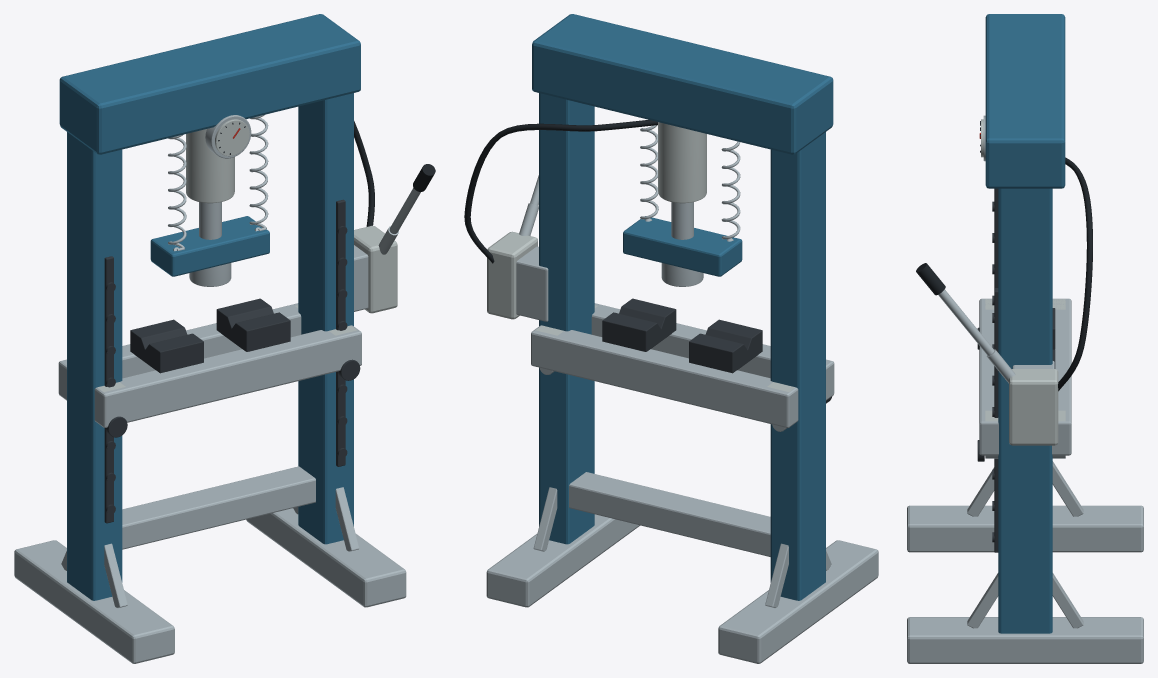
Rendered from city-hydraulic-shop-press.glb.
3 renders of one model, left to right at view 1: azimuth 30°, elevation 25°; view 2: azimuth 150°, elevation 25°; view 3: azimuth 270°, elevation 25°, orthographic.
Visible parts, largest first — view 1: Assembly | Deep blue service paint, Assembly | Brushed exposed steel, Assembly | Dark mechanism trim, Assembly | Powder-coated light service metal, Assembly | Rubber feet and hoses; view 2: Assembly | Deep blue service paint, Assembly | Brushed exposed steel, Assembly | Powder-coated light service metal, Assembly | Dark mechanism trim, Assembly | Rubber feet and hoses; view 3: Assembly | Deep blue service paint, Assembly | Brushed exposed steel, Assembly | Powder-coated light service metal, Assembly | Rubber feet and hoses, Assembly | Dark mechanism trim.
Part boxes in pixels (<box>): Assembly | Deep blue service paint: <box>59,14,360,600</box>; Assembly | Brushed exposed steel: <box>14,114,420,663</box>; Assembly | Dark mechanism trim: <box>104,122,360,523</box>; Assembly | Powder-coated light service metal: <box>97,119,397,391</box>; Assembly | Rubber feet and hoses: <box>354,121,435,226</box>; Assembly | Deep blue service paint: <box>532,14,833,600</box>; Assembly | Brushed exposed steel: <box>486,125,878,663</box>; Assembly | Powder-coated light service metal: <box>487,122,795,391</box>; Assembly | Dark mechanism trim: <box>602,298,832,403</box>; Assembly | Rubber feet and hoses: <box>464,119,657,263</box>; Assembly | Deep blue service paint: <box>985,14,1065,633</box>; Assembly | Brushed exposed steel: <box>907,115,1143,663</box>; Assembly | Powder-coated light service metal: <box>981,119,1065,445</box>; Assembly | Rubber feet and hoses: <box>916,157,1092,391</box>; Assembly | Dark mechanism trim: <box>977,121,1055,552</box>.
Size of the model in its own units: 1.19 by 1.84 by 0.754.
